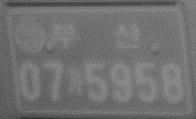0: (17, 61, 42, 102)
5: (134, 61, 159, 104), (86, 61, 109, 104)
7: (41, 61, 66, 104)
8: (161, 61, 185, 104)
9: (110, 62, 132, 105)
가: (66, 65, 87, 98)
부산_D: (51, 20, 143, 51)
영: (13, 19, 46, 54)
